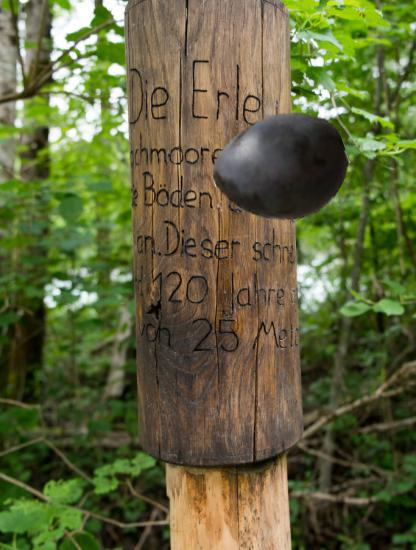Plum: (213, 101, 348, 236)
